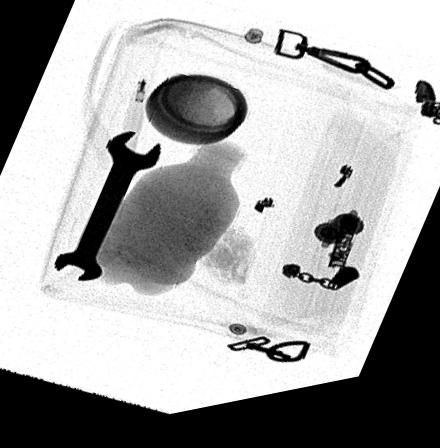Wrench: (53, 135, 162, 286)
